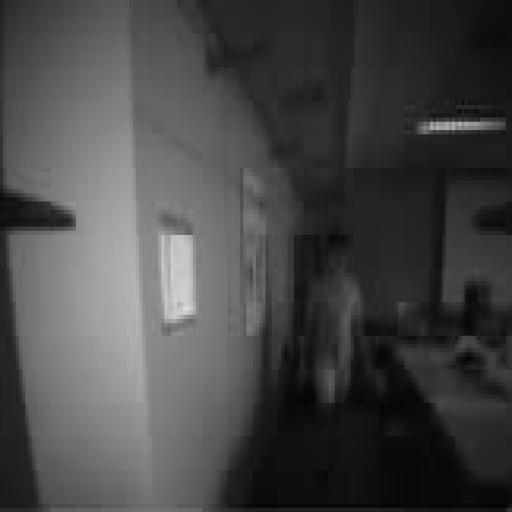human: (304, 231, 372, 407)
